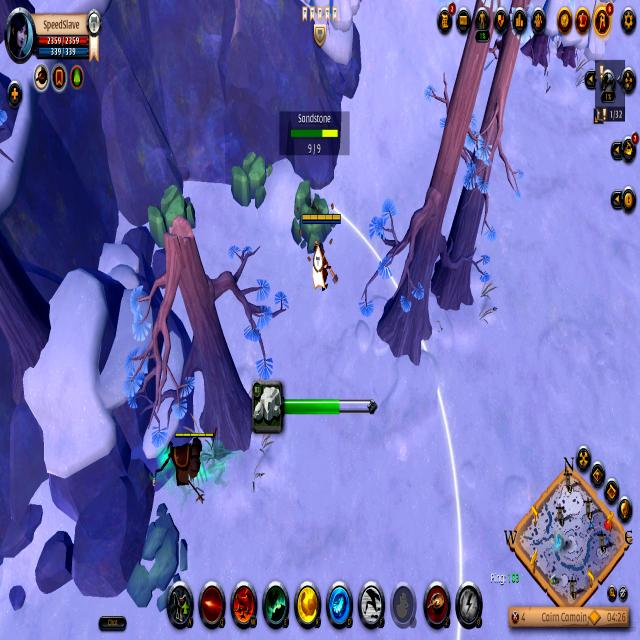red: (299, 210, 344, 300)
tree: (142, 183, 204, 250), (292, 176, 340, 256), (228, 146, 278, 217)
